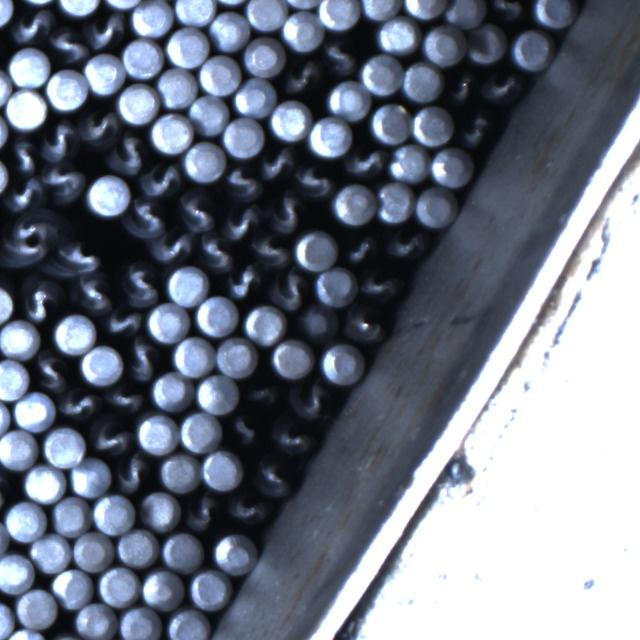tool: (423, 23, 468, 65), (213, 531, 258, 573), (332, 183, 375, 226), (136, 413, 180, 455), (86, 172, 130, 214), (320, 342, 364, 384), (91, 493, 134, 535), (412, 103, 455, 145), (166, 25, 209, 67), (196, 294, 239, 336), (511, 27, 554, 69), (53, 311, 96, 353), (294, 228, 338, 269), (414, 186, 456, 228), (308, 115, 351, 156), (361, 53, 404, 94), (42, 426, 85, 467), (147, 301, 190, 342), (151, 113, 194, 154), (327, 80, 371, 120), (376, 15, 421, 54), (47, 69, 88, 111), (182, 140, 223, 182), (215, 336, 257, 377), (118, 82, 159, 124), (200, 448, 242, 489), (180, 410, 222, 451), (172, 335, 214, 376), (141, 568, 182, 610), (166, 264, 208, 305), (232, 76, 275, 116), (270, 338, 313, 378), (245, 304, 288, 344), (160, 532, 203, 572), (123, 38, 164, 79), (269, 99, 310, 140), (371, 101, 412, 142), (140, 489, 181, 530), (15, 589, 57, 629), (223, 116, 265, 156), (98, 567, 140, 607), (430, 147, 472, 187), (198, 54, 240, 94), (196, 372, 238, 412), (50, 569, 92, 609), (81, 344, 123, 384), (189, 569, 231, 609), (151, 371, 193, 411), (9, 47, 51, 87), (387, 143, 430, 182), (84, 52, 124, 93), (403, 60, 444, 100), (5, 88, 46, 128), (156, 66, 196, 107), (6, 500, 47, 540), (374, 182, 414, 223), (71, 458, 112, 498), (188, 94, 228, 135), (24, 464, 66, 503), (468, 23, 507, 65), (74, 602, 117, 640), (72, 530, 112, 570), (208, 11, 248, 51), (159, 450, 199, 490), (316, 266, 356, 306), (15, 392, 56, 431), (282, 12, 324, 50), (245, 38, 285, 77), (52, 497, 91, 537), (118, 527, 158, 566), (0, 320, 41, 358), (130, 0, 172, 37), (29, 534, 69, 572), (165, 607, 209, 640), (0, 428, 36, 468), (120, 606, 162, 640), (0, 552, 34, 593), (319, 0, 361, 29), (245, 0, 285, 30), (0, 359, 29, 400), (444, 0, 486, 28), (534, 0, 577, 27), (174, 0, 215, 25), (361, 0, 402, 19), (404, 0, 447, 17), (58, 0, 102, 15), (0, 600, 15, 640), (0, 284, 14, 325), (4, 628, 46, 640), (0, 66, 11, 108), (0, 396, 10, 438), (0, 0, 14, 26), (0, 518, 8, 560), (0, 110, 8, 150), (100, 1, 143, 8), (0, 157, 8, 193)
tool_b: (0, 214, 51, 265), (42, 160, 86, 203), (124, 196, 167, 239), (22, 276, 62, 322), (56, 236, 101, 275), (123, 260, 161, 306), (291, 379, 331, 422), (39, 120, 78, 163), (32, 352, 72, 393), (177, 190, 216, 232), (49, 24, 89, 64), (124, 337, 160, 381), (271, 270, 310, 310), (138, 161, 180, 198), (0, 178, 43, 214), (114, 454, 152, 494), (108, 134, 146, 174), (294, 162, 335, 199), (85, 13, 126, 50), (57, 386, 99, 422), (480, 71, 522, 107), (90, 420, 132, 456), (150, 228, 192, 264), (272, 418, 314, 454), (251, 231, 293, 267), (102, 380, 146, 414), (320, 37, 358, 76), (80, 112, 119, 150), (183, 493, 221, 532), (268, 193, 304, 234), (226, 493, 268, 528), (383, 229, 426, 263), (282, 59, 320, 97), (197, 232, 234, 271), (255, 459, 292, 498), (458, 110, 495, 149), (344, 306, 384, 342), (223, 203, 261, 240), (225, 164, 264, 200), (11, 9, 50, 45), (357, 267, 398, 301), (102, 305, 144, 338), (226, 264, 264, 300), (74, 276, 112, 312), (344, 147, 385, 180), (260, 146, 296, 182), (243, 377, 279, 409), (342, 232, 376, 265), (10, 139, 39, 176), (446, 72, 477, 106), (230, 411, 260, 446), (488, 0, 530, 22)
